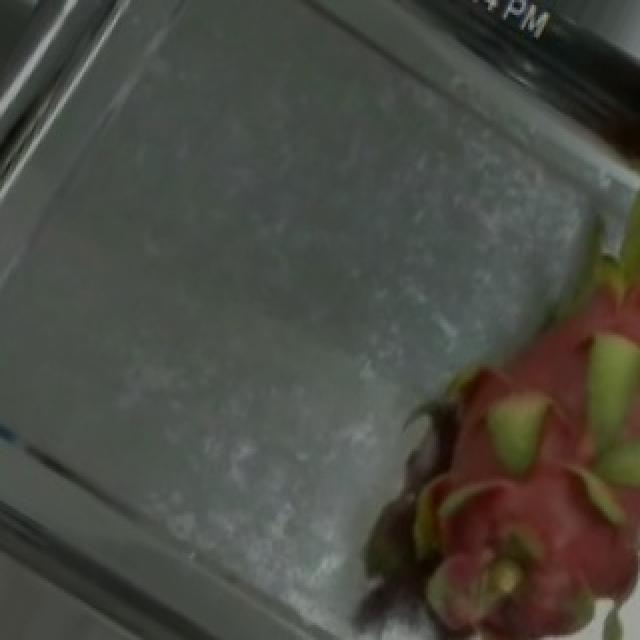fruit: (296, 245, 640, 638)
